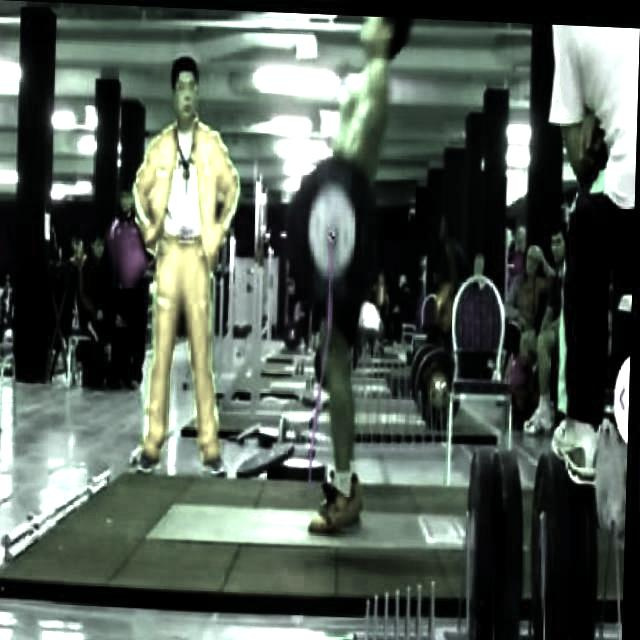barbell: (281, 151, 385, 317)
